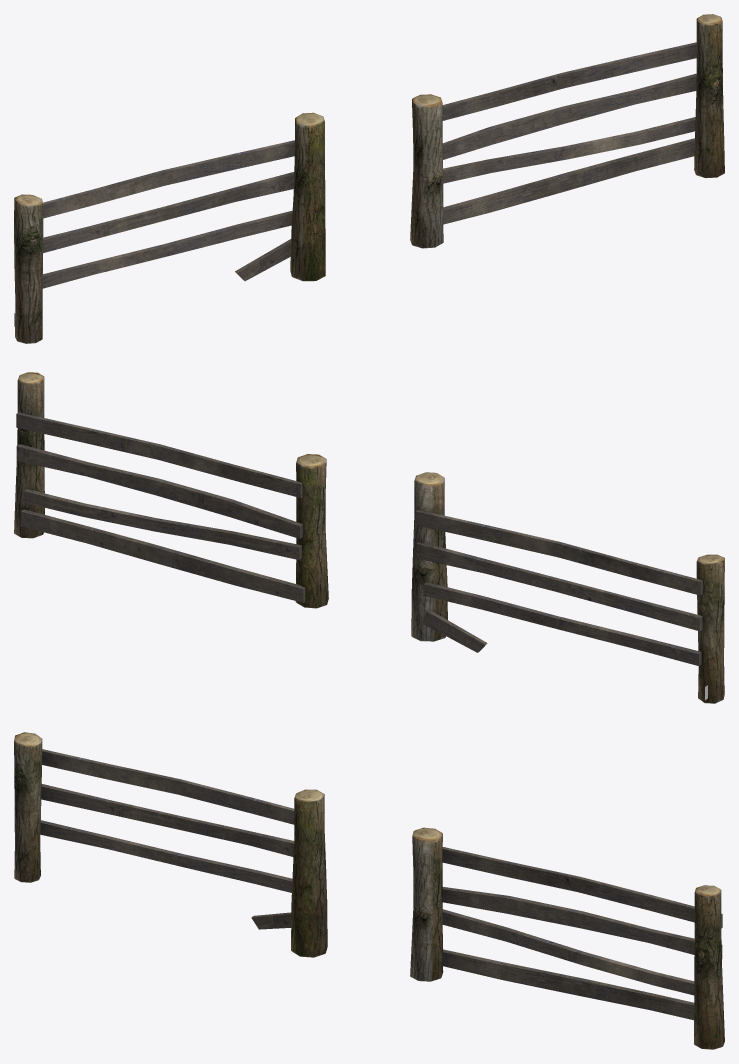
File: vh_fence.glb
3 renders of one model, top to bottom at view 1: azimuth 30°, elevation 25°; view 2: azimuth 150°, elevation 25°; view 3: azimuth 330°, elevation 25°, orthographic.
Visible parts, largest first — view 1: fence 1, fence 2; view 2: fence 1, fence 2; view 3: fence 1, fence 2.
Boxes of the visible parts, bbox=[...] form: fence 1: bbox=[410, 14, 724, 248]; fence 2: bbox=[14, 112, 325, 343]; fence 1: bbox=[14, 372, 328, 608]; fence 2: bbox=[411, 472, 724, 703]; fence 1: bbox=[410, 827, 724, 1049]; fence 2: bbox=[14, 732, 327, 957].
Size of the model in its own units: 8.94 by 1.92 by 0.4129.
2 materials, 2 textured.
